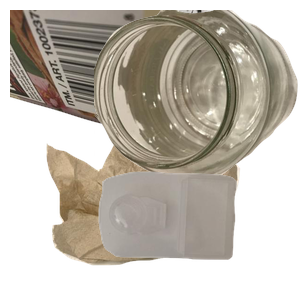cardboard: (10, 10, 213, 146)
glass: (94, 10, 300, 184)
plastic: (96, 169, 300, 300)
trash: (44, 136, 277, 300)
